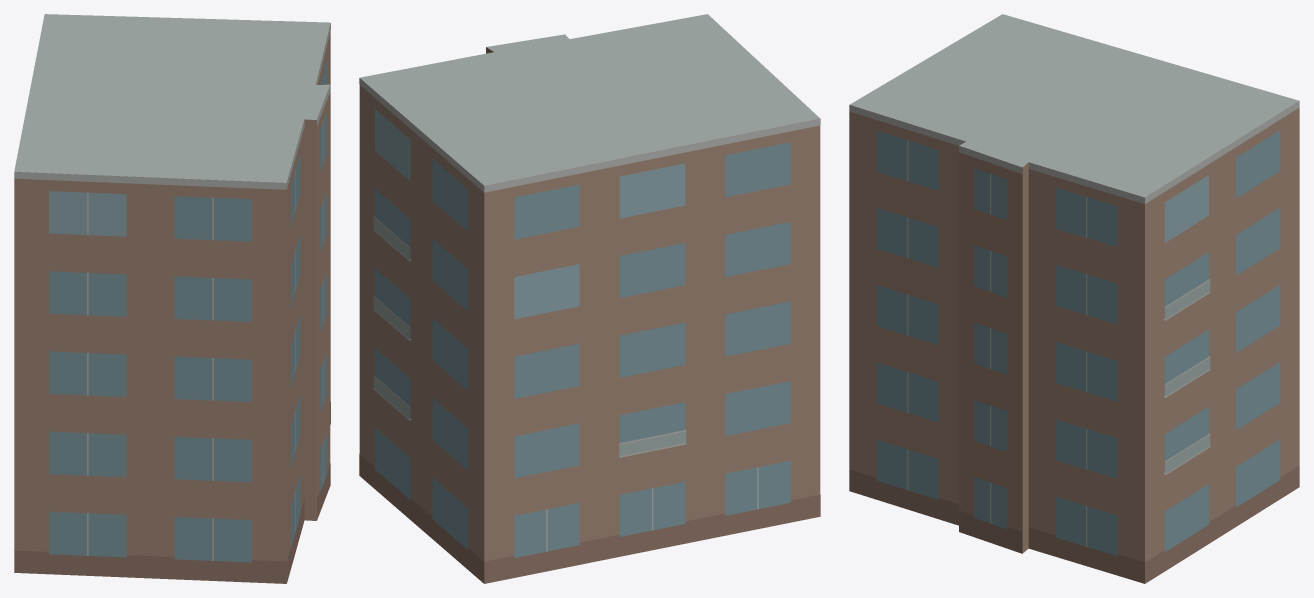
File: survey-upis-32844546.glb
The picture shows the model from 3 angles, left to right: view 1: azimuth 30°, elevation 25°; view 2: azimuth 150°, elevation 25°; view 3: azimuth 270°, elevation 25°; orthographic projection. The views are drawn at different scales.
Visible parts, largest first — view 1: survey-upis-32844546.tmp; view 2: survey-upis-32844546.tmp; view 3: survey-upis-32844546.tmp.
Part boxes in pixels (left/top/right/bottom): survey-upis-32844546.tmp: left=14, top=14, right=330, bottom=583; survey-upis-32844546.tmp: left=359, top=14, right=820, bottom=583; survey-upis-32844546.tmp: left=849, top=14, right=1299, bottom=583.
Size of the model in its own units: 14.48 by 14.2 by 15.01.
